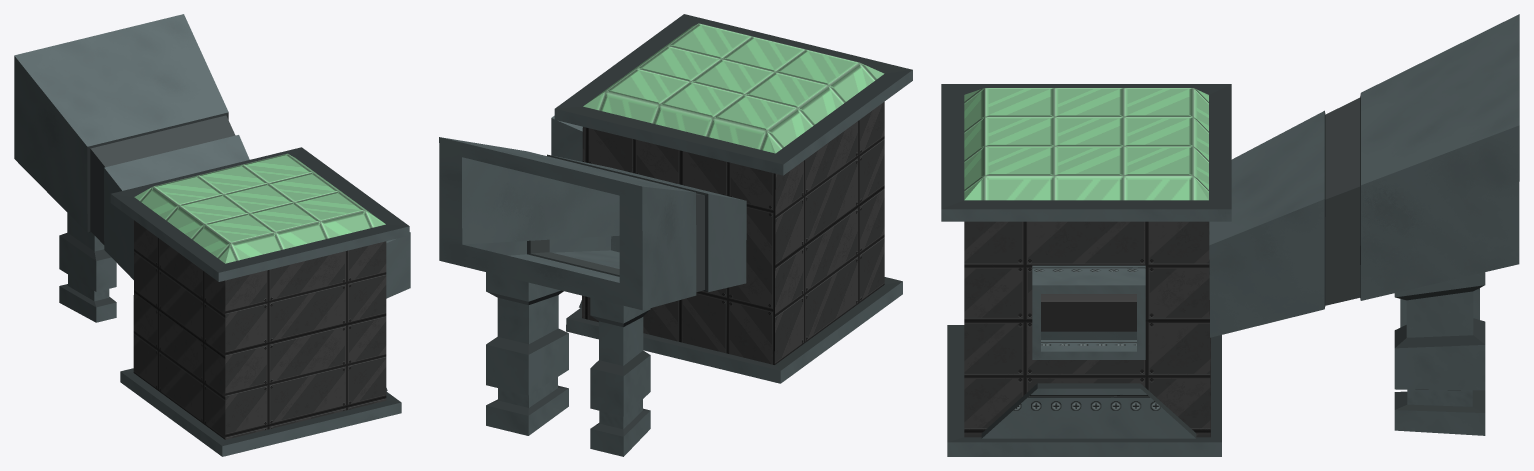
The model's file is Launcher.obj.
The picture shows the model from 3 angles, left to right: view 1: azimuth 30°, elevation 25°; view 2: azimuth 150°, elevation 25°; view 3: azimuth 270°, elevation 25°; orthographic projection. The views are drawn at different scales.
Visible parts, largest first — view 1: Cube_Cube.001; view 2: Cube_Cube.001; view 3: Cube_Cube.001.
Part boxes in pixels (x1,y1,x2,y2): Cube_Cube.001: [14, 14, 410, 456]; Cube_Cube.001: [439, 14, 912, 456]; Cube_Cube.001: [941, 14, 1519, 456].
Size of the model in its own units: 14.88 by 15.4 by 24.56.
